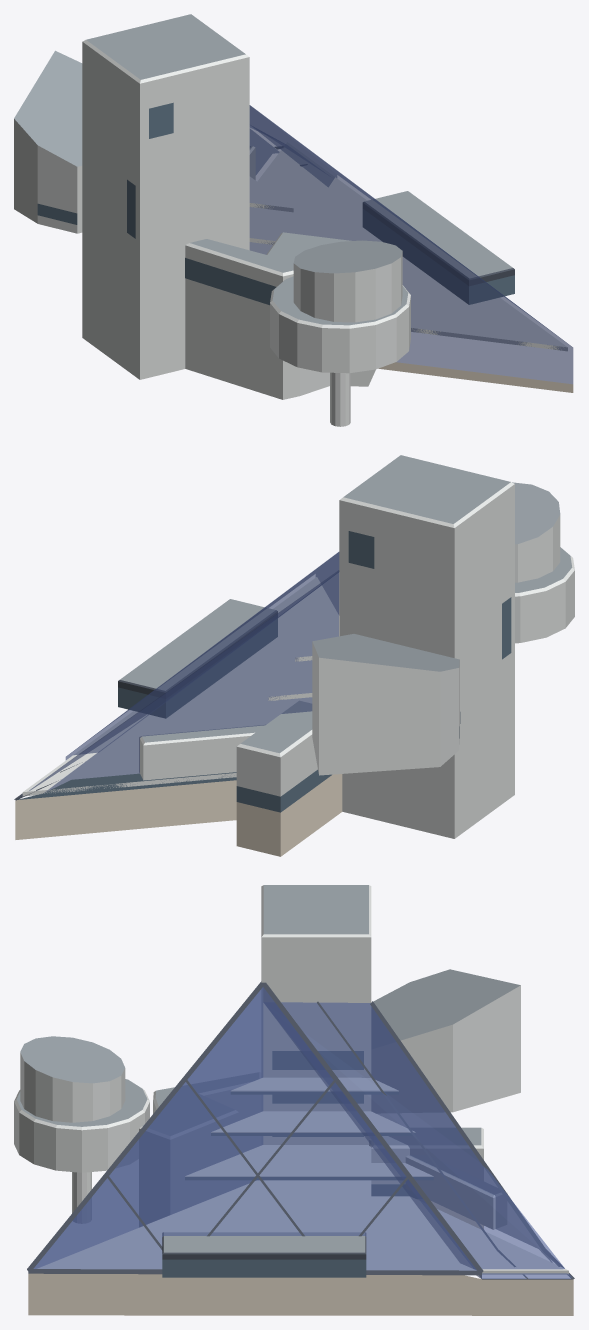
The model's file is cle-rock-and-roll-hall-of-fame.glb.
The picture shows the model from 3 angles, top to bottom: view 1: azimuth 30°, elevation 25°; view 2: azimuth 150°, elevation 25°; view 3: azimuth 270°, elevation 25°; orthographic projection. The views are drawn at different scales.
Visible parts, largest first — view 1: Rock and Roll Hall of Fame; view 2: Rock and Roll Hall of Fame; view 3: Rock and Roll Hall of Fame.
Part boxes in pixels (<box>): Rock and Roll Hall of Fame: <box>14,14,573,426</box>; Rock and Roll Hall of Fame: <box>14,455,574,856</box>; Rock and Roll Hall of Fame: <box>14,885,574,1315</box>.
Size of the model in its own units: 62.7 by 51 by 90.72.
